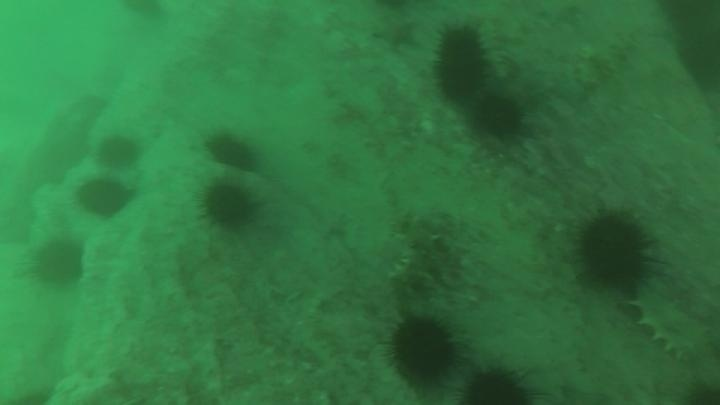echinus: (573, 209, 656, 291), (385, 313, 462, 388), (431, 25, 490, 104), (458, 363, 536, 404), (29, 236, 87, 289), (199, 180, 257, 231), (472, 93, 526, 141), (75, 176, 133, 220), (204, 130, 260, 173), (95, 133, 143, 171), (119, 0, 169, 23)
holothurian: (627, 281, 707, 363), (571, 30, 639, 93), (388, 213, 440, 294), (474, 16, 508, 84)
starfish: (370, 17, 420, 52)
